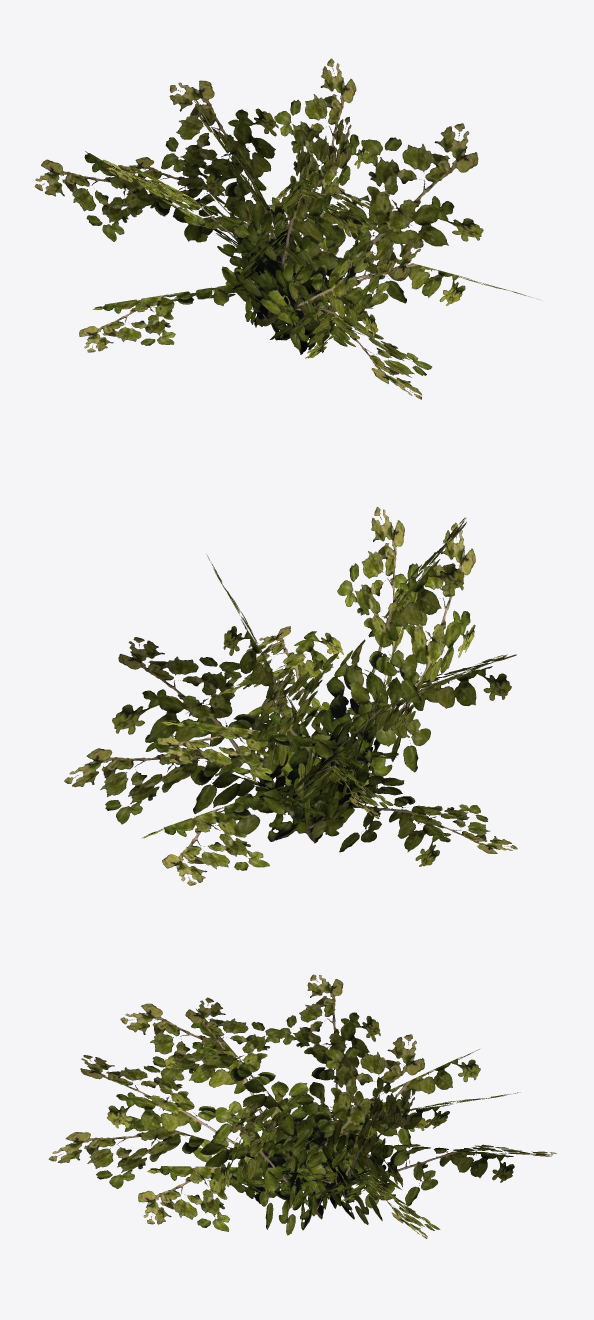
File: NW_NATURE_BUSH_56P.glb
3 renders of one model, top to bottom at view 1: azimuth 30°, elevation 25°; view 2: azimuth 150°, elevation 25°; view 3: azimuth 270°, elevation 25°, orthographic. The views are drawn at different scales.
Parts seen in each view (by area): view 1: Mesh; view 2: Mesh; view 3: Mesh.
Part boxes in pixels (x1,y1,x2,y2): Mesh: [34, 58, 539, 399]; Mesh: [64, 507, 517, 885]; Mesh: [48, 974, 556, 1238].
Size of the model in its own units: 2.43 by 1.99 by 3.36.
1 material, 1 textured.
